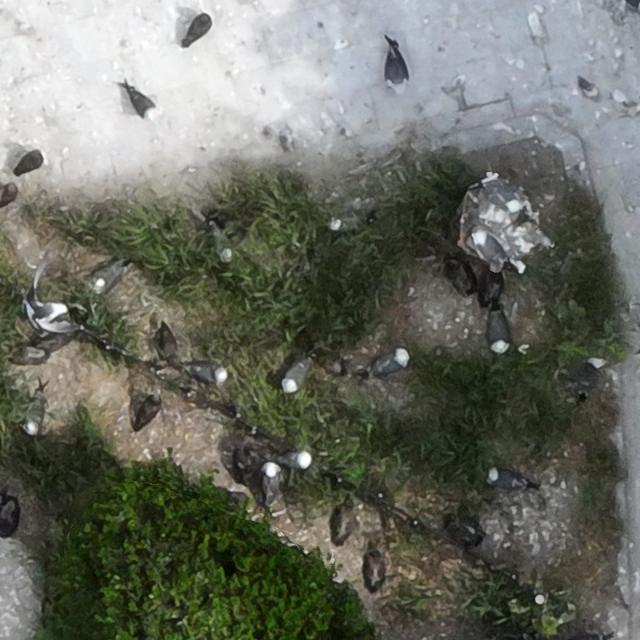F: (27, 272, 68, 332)
umineko: (473, 232, 511, 274), (128, 88, 158, 120), (494, 180, 522, 213), (211, 224, 233, 262), (330, 214, 370, 232), (285, 360, 308, 390), (379, 350, 409, 373), (93, 264, 120, 288), (190, 365, 225, 383), (386, 53, 405, 85), (489, 470, 520, 489), (24, 399, 41, 432), (489, 316, 506, 349), (186, 17, 209, 40), (263, 465, 278, 499), (280, 451, 310, 467)
